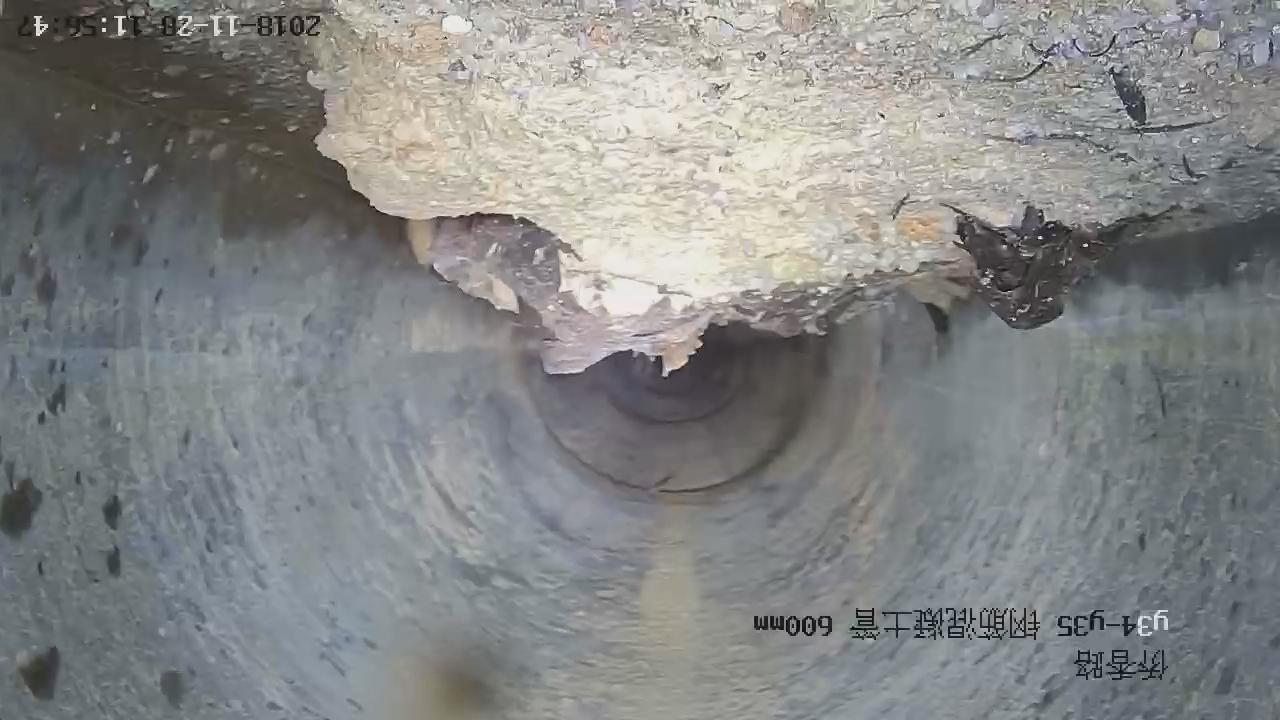CJ: (314, 1, 1280, 373)
